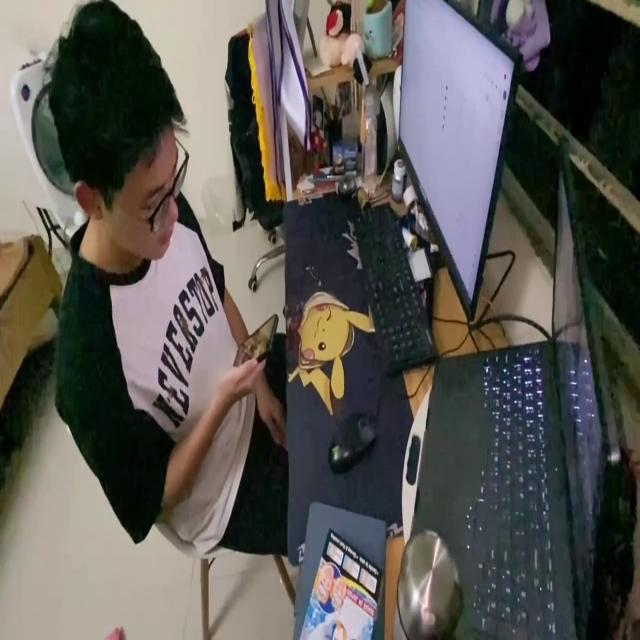laptop: (409, 130, 620, 640), (396, 0, 521, 338)
phone: (230, 308, 278, 366)
student: (45, 1, 289, 566)
